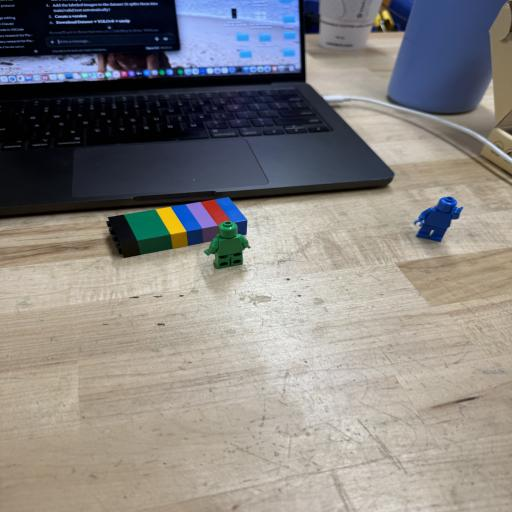blue-minifig: (414, 197, 463, 241)
green-minifig: (204, 221, 250, 269)
